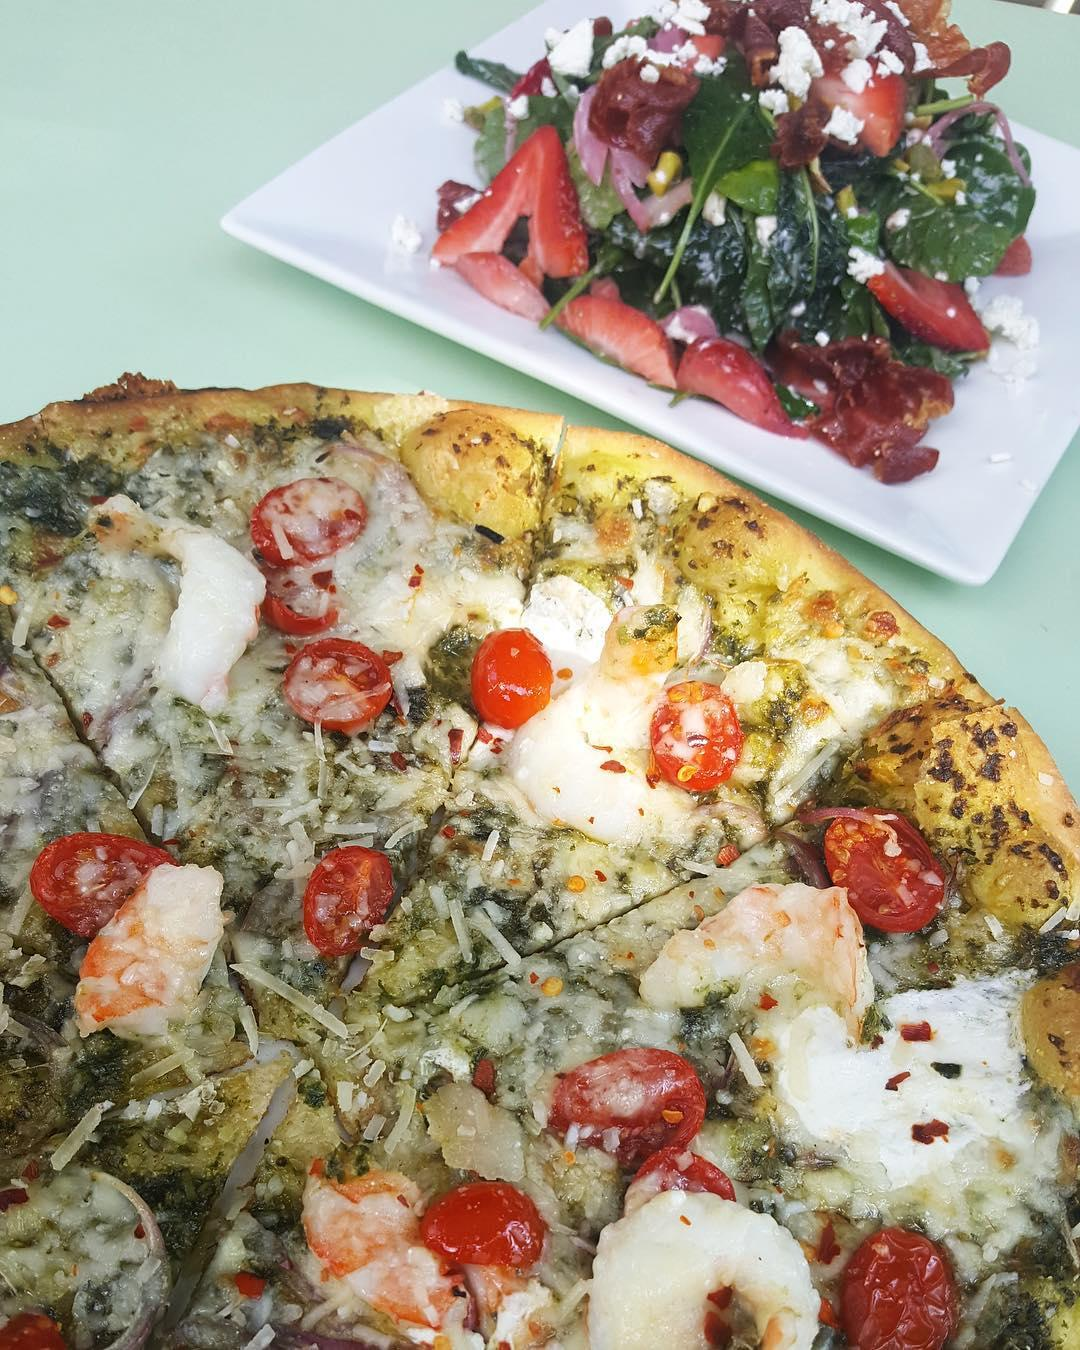Pizza: (0, 385, 1080, 1350)
Tomatoes: (30, 829, 222, 1025), (548, 1051, 734, 1192), (828, 811, 933, 937), (844, 1228, 949, 1350), (279, 637, 398, 734), (428, 1181, 550, 1275), (655, 684, 741, 797), (461, 638, 554, 735), (304, 844, 387, 950), (268, 488, 365, 562), (261, 564, 345, 639)
